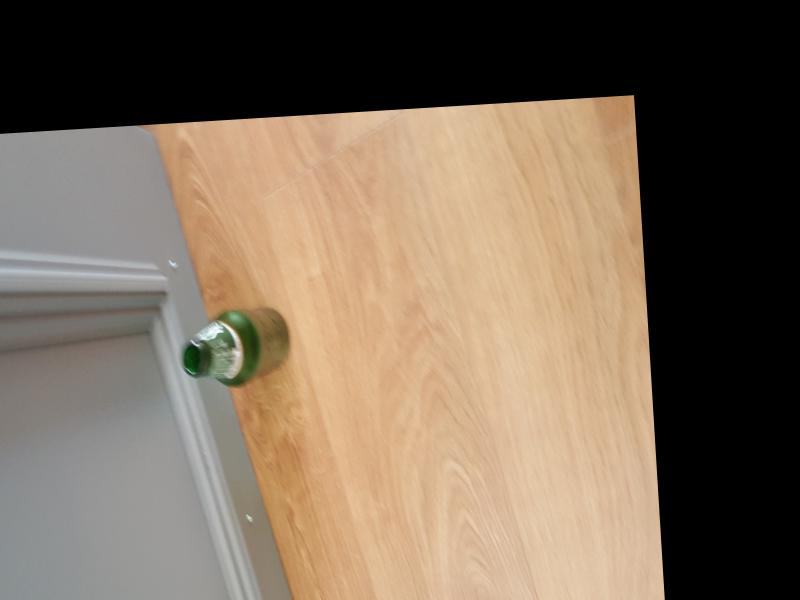Beer: (179, 307, 291, 389)
